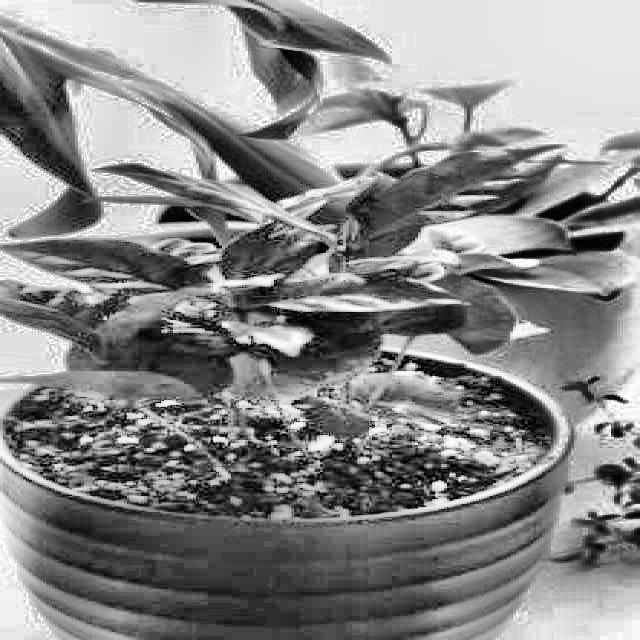plants: (0, 134, 557, 639)
